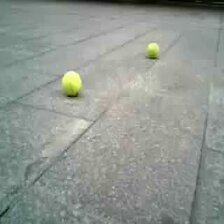tennis: (61, 71, 81, 94), (146, 43, 159, 57)
